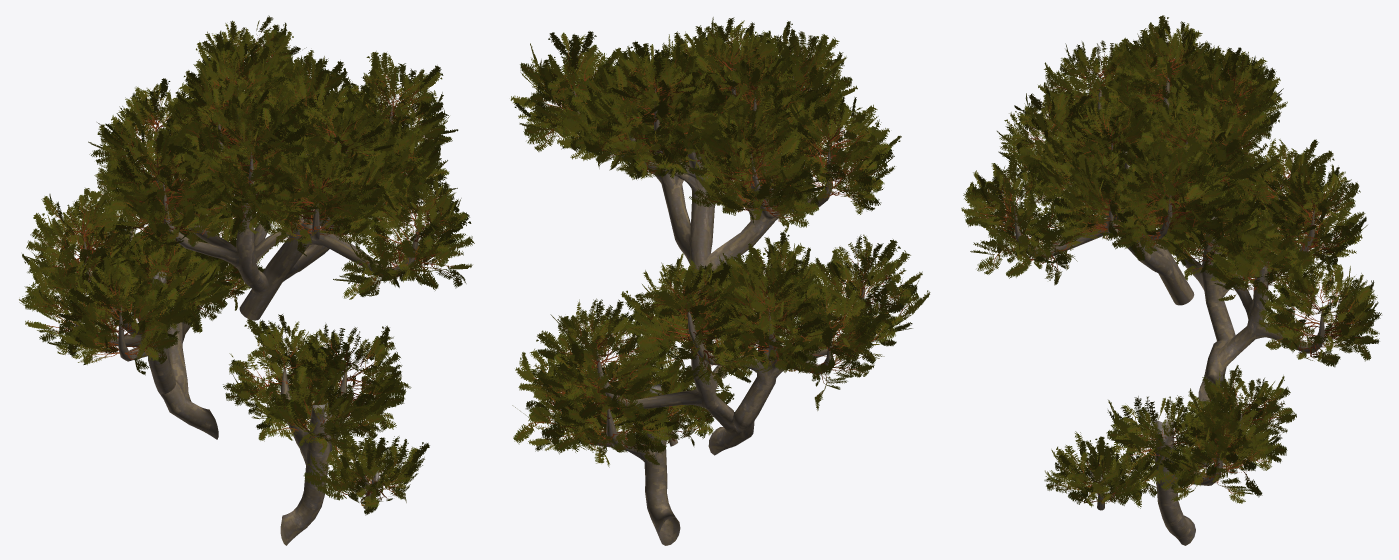
3 views of the same model, side by side, from view 1: azimuth 30°, elevation 25°; view 2: azimuth 150°, elevation 25°; view 3: azimuth 270°, elevation 25° (orthographic). The views are drawn at different scales.
Parts seen in each view (by area): view 1: SM_Yew_02_canopy_LOD0; view 2: SM_Yew_02_canopy_LOD0; view 3: SM_Yew_02_canopy_LOD0.
Part boxes in pixels (x1,y1,x2,y2): SM_Yew_02_canopy_LOD0: [19, 15, 474, 545]; SM_Yew_02_canopy_LOD0: [510, 17, 930, 545]; SM_Yew_02_canopy_LOD0: [961, 15, 1381, 545].
Size of the model in its own units: 8.56 by 10.77 by 8.37.
2 materials, 2 textured.
